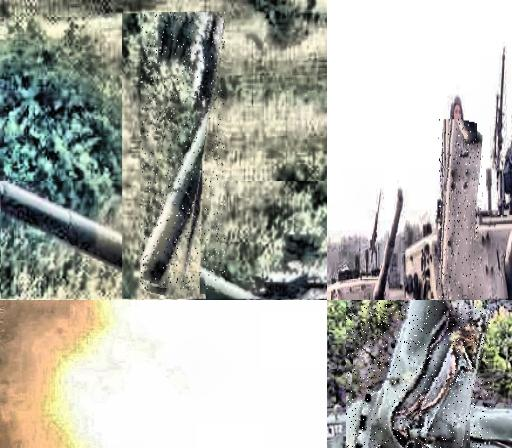tanks: (141, 14, 226, 291), (347, 301, 493, 448), (328, 191, 409, 301), (439, 120, 483, 298)
